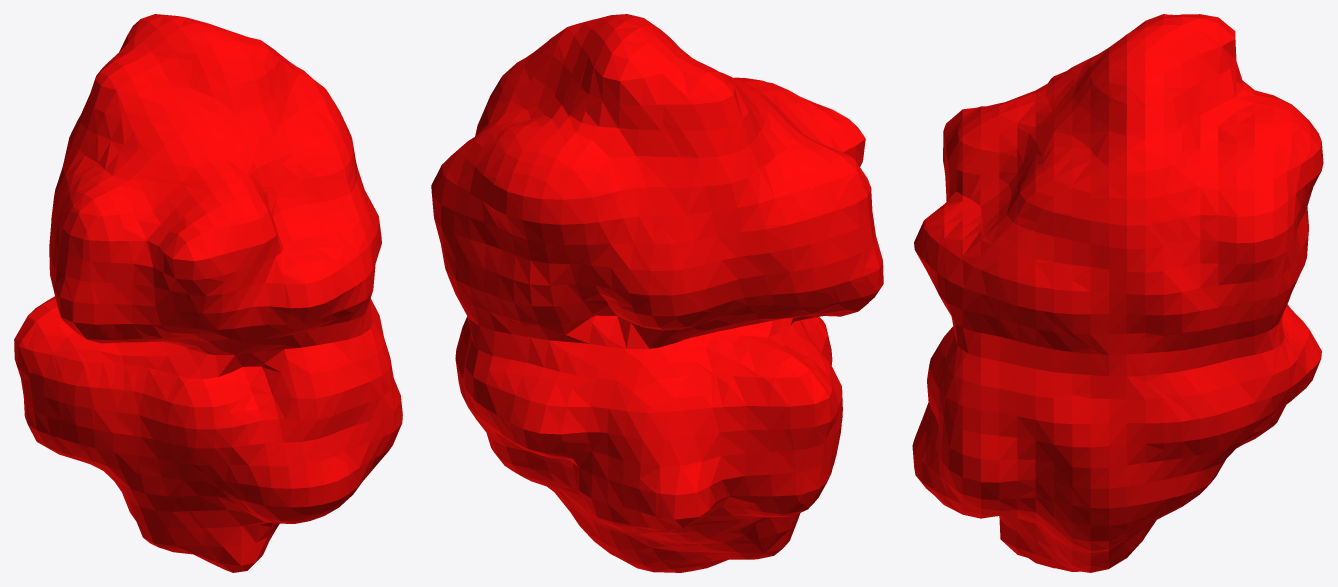
The model's file is trmL_coarse.dae.
3 renders of one model, left to right at view 1: azimuth 30°, elevation 25°; view 2: azimuth 150°, elevation 25°; view 3: azimuth 270°, elevation 25°, orthographic. The views are drawn at different scales.
Parts seen in each view (by area): view 1: trmL; view 2: trmL; view 3: trmL.
Part boxes in pixels (x1,y1,x2,y2): trmL: (14, 14, 402, 572); trmL: (431, 14, 883, 572); trmL: (912, 14, 1323, 572).
Bounding box in the file's own units: 44.69 × 67.42 × 46.08.
